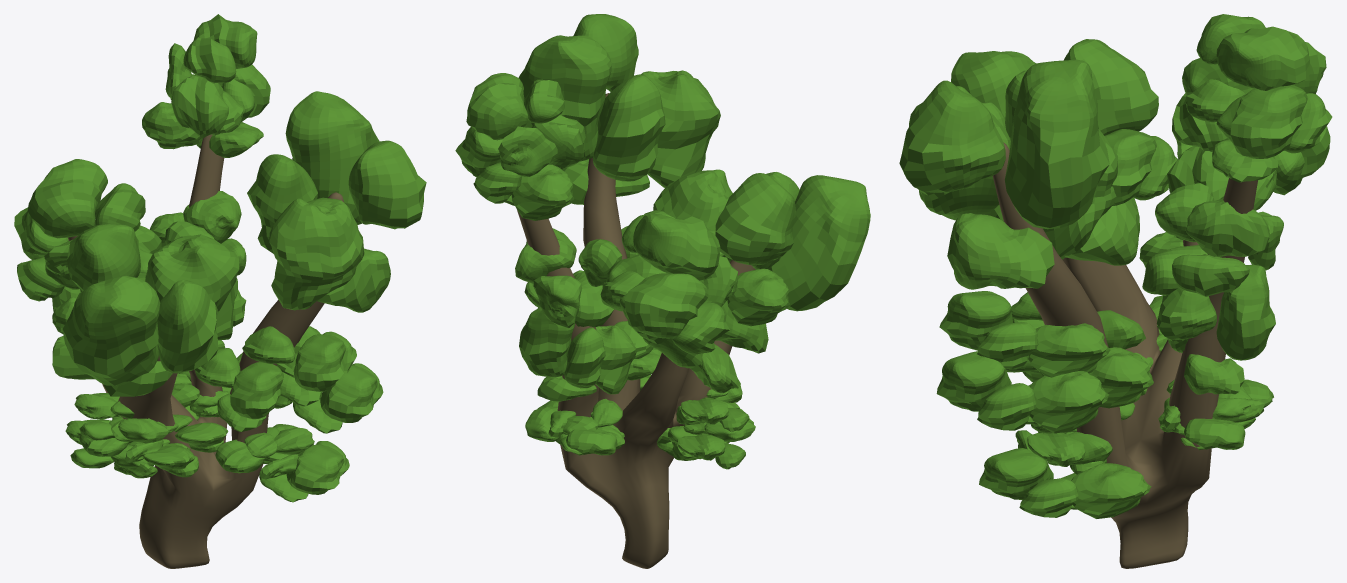
File: DecorativeShrubwithLeaves2.fbx
3 views of the same model, side by side, from view 1: azimuth 30°, elevation 25°; view 2: azimuth 150°, elevation 25°; view 3: azimuth 270°, elevation 25° (orthographic). The views are drawn at different scales.
Parts seen in each view (by area): view 1: DecorativeShrubwithLeaves2; view 2: DecorativeShrubwithLeaves2; view 3: DecorativeShrubwithLeaves2.
Boxes of the visible parts, x1=… form: DecorativeShrubwithLeaves2: x1=14, y1=14, x2=426, y2=568; DecorativeShrubwithLeaves2: x1=455, y1=14, x2=870, y2=568; DecorativeShrubwithLeaves2: x1=899, y1=14, x2=1332, y2=568.
Bounding box in the file's own units: 84.85 × 121 × 80.98.
